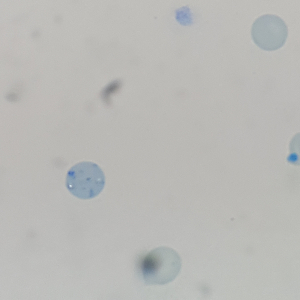aggregate reticulocyte: (64, 160, 107, 201)
erythrocyte: (141, 244, 184, 287), (249, 12, 291, 52)
